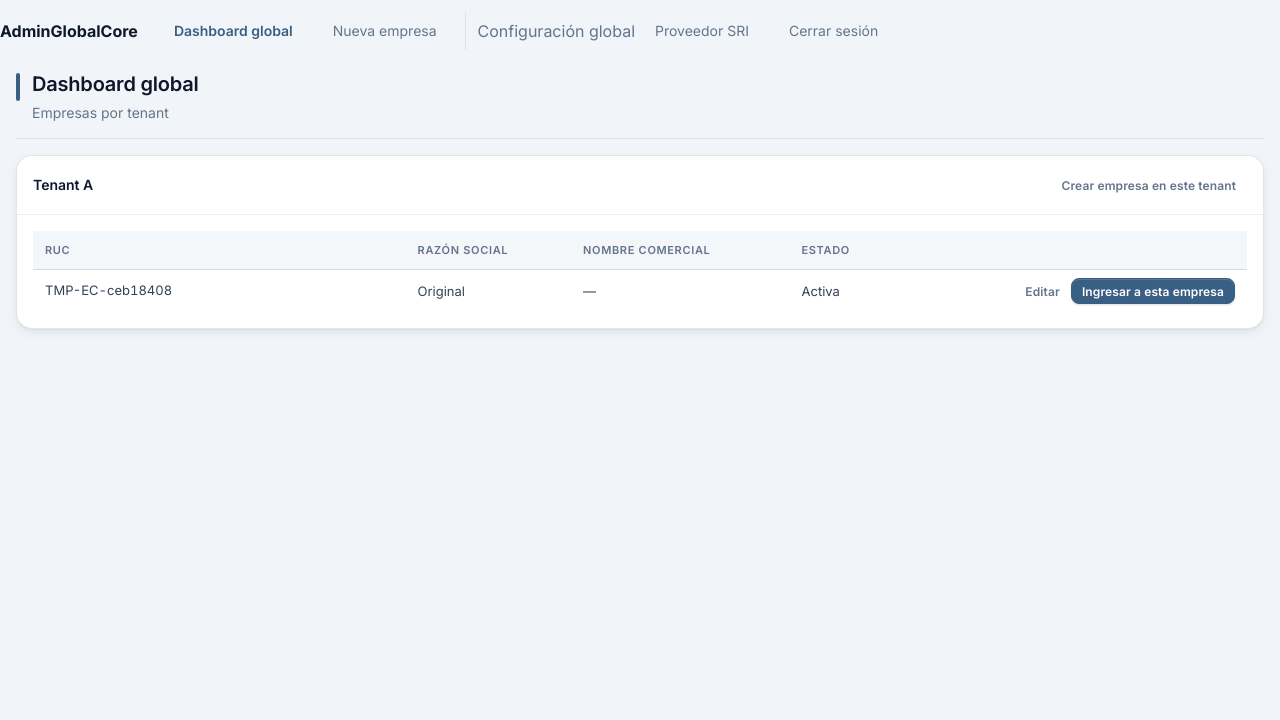
Test: Editar empresa global › guarda sobre la empresa existente y refresca el RUC pendiente desde backend
Click the button "Editar": click(1043, 291) [1014,278,1071,304]
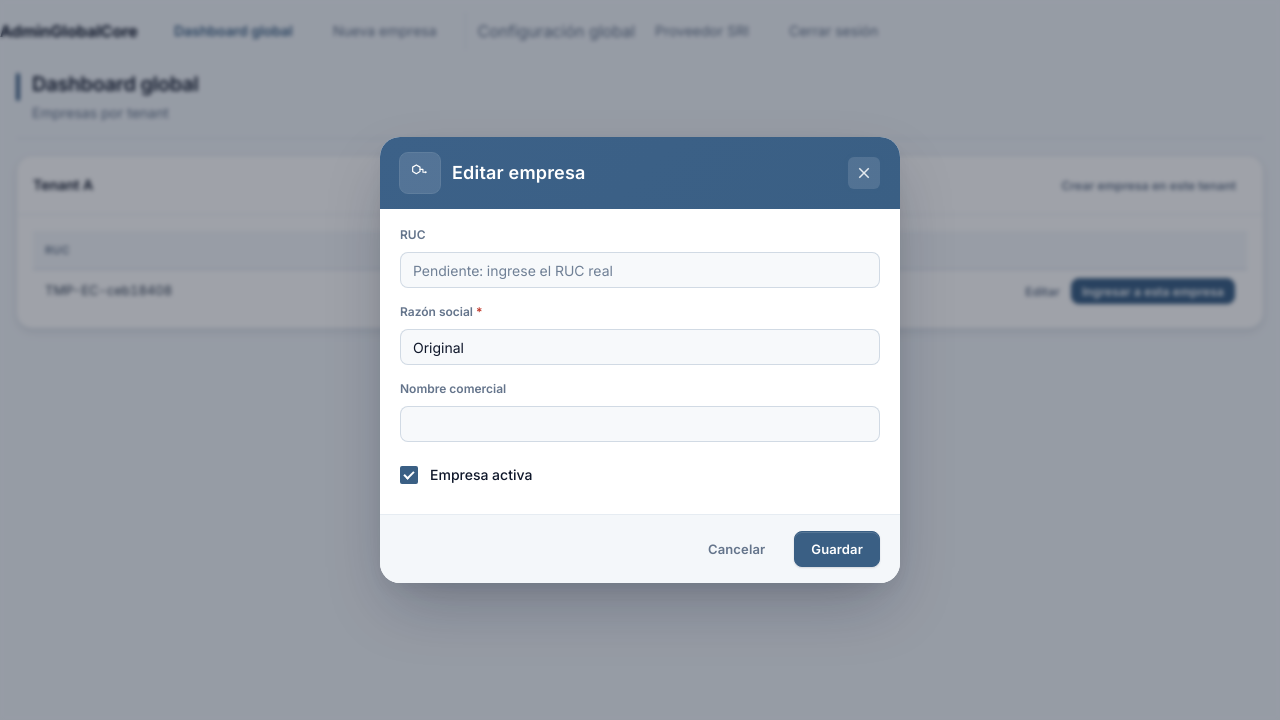
Check: the text "RUC Pendiente" is shown, box [172,278,279,304]
In the field labelled "RUC": (640, 270) [400,252,880,288], type "1790016919001"
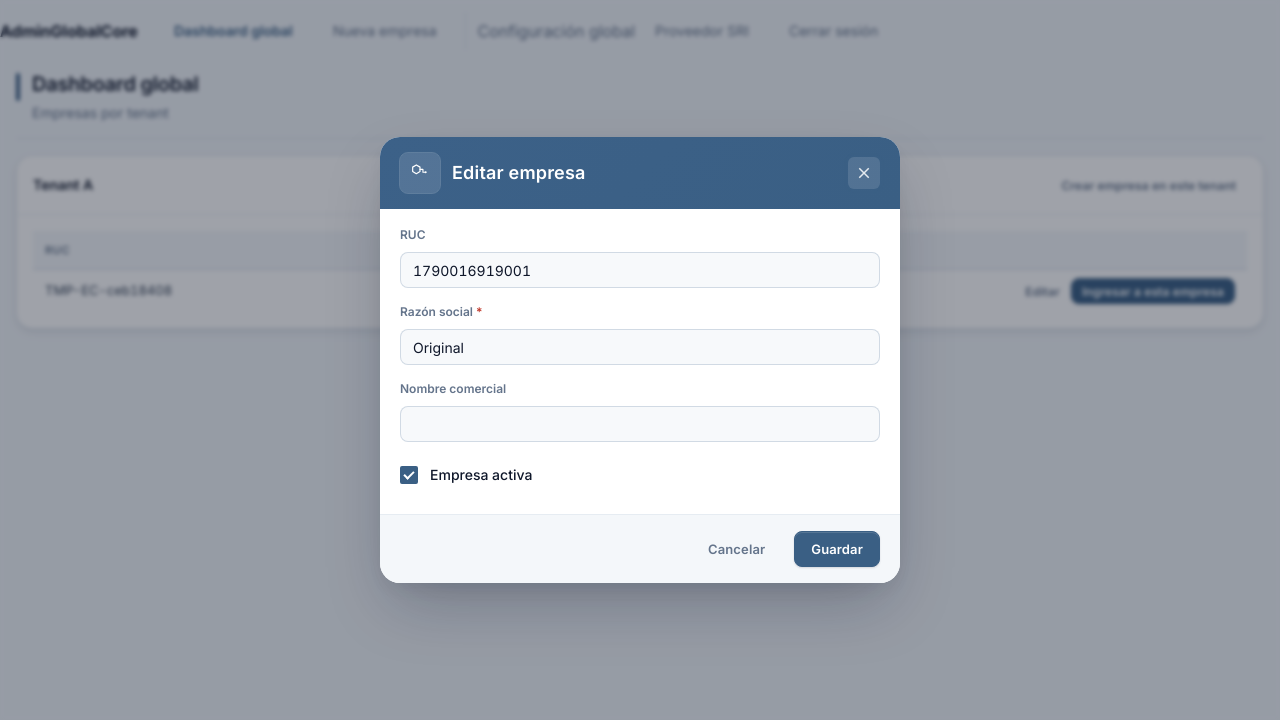
Replace the text in the field labelled "Razón social" with "Actualizada": (640, 347) [400,329,880,365]
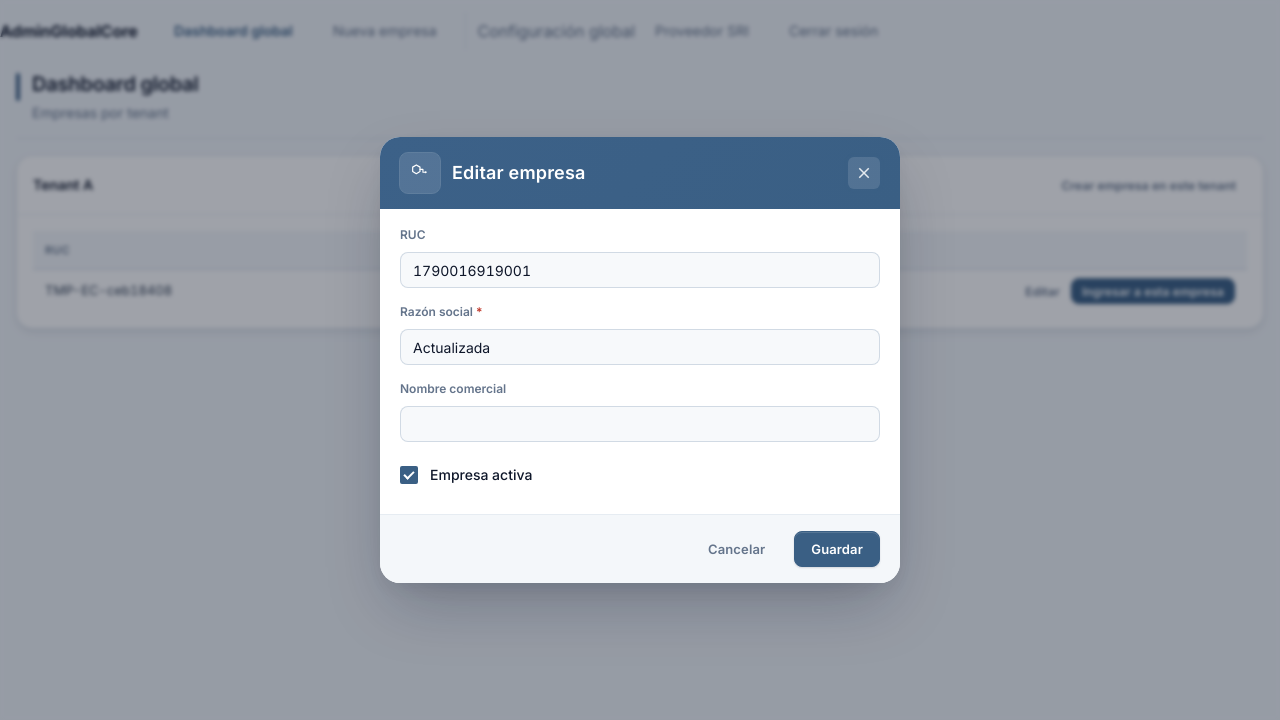
Click the button "Guardar": click(837, 549) [794,531,880,567]
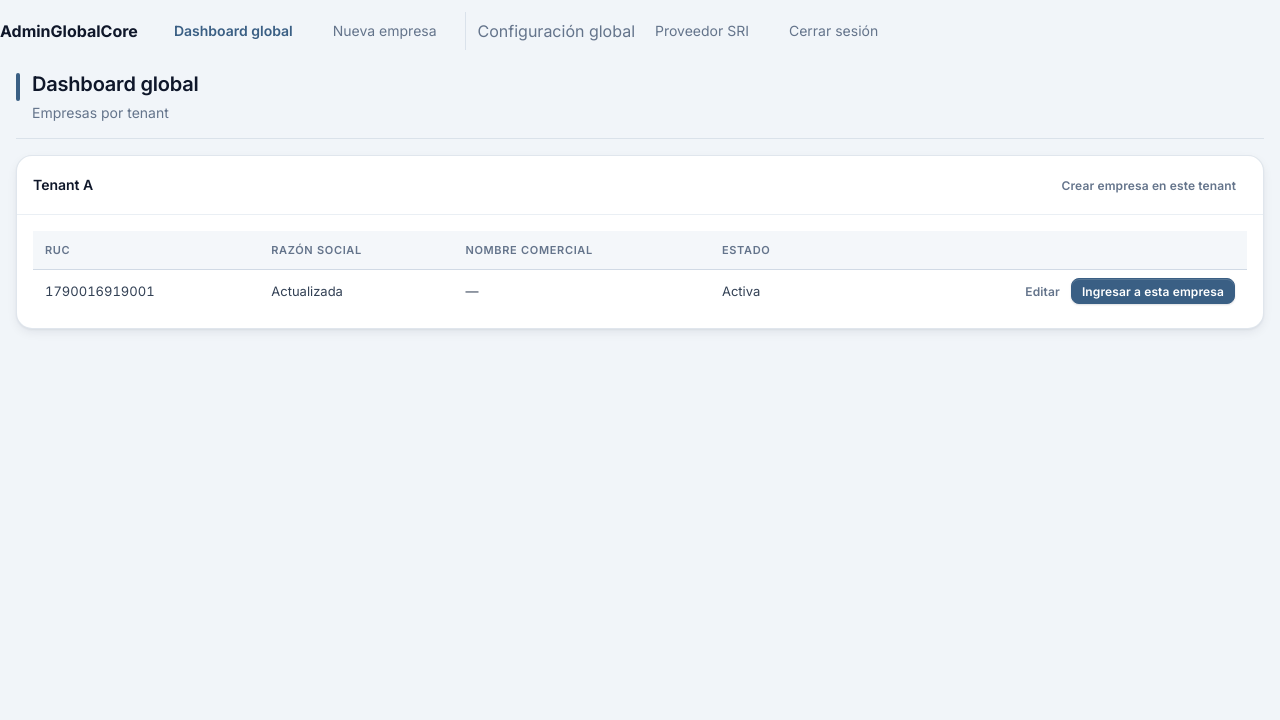
Check: the text "1790016919001" is shown, box [33,270,259,312]
Check: the text "RUC Pendiente" is gone
Check: the dialog is gone
